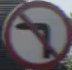Don't turn left: (0, 1, 62, 58)
